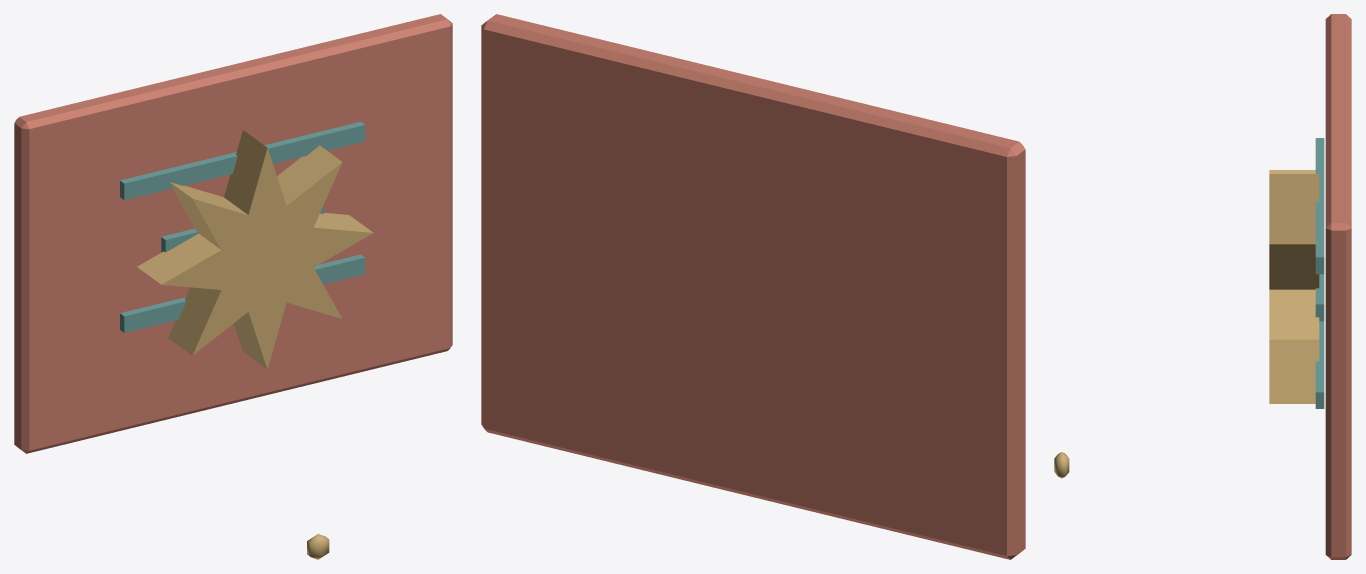
3 renders of one model, left to right at view 1: azimuth 30°, elevation 25°; view 2: azimuth 150°, elevation 25°; view 3: azimuth 270°, elevation 25°, orthographic. The views are drawn at different scales.
Visible parts, largest first — view 1: g_s69; view 2: g_s69; view 3: g_s69.
Boxes of the visible parts, box(x1,y1,x2,y2) form: g_s69: box(14, 14, 452, 559); g_s69: box(481, 14, 1025, 559); g_s69: box(1054, 14, 1351, 559).
Size of the model in its own units: 0.2924 by 0.246 by 0.1719.
